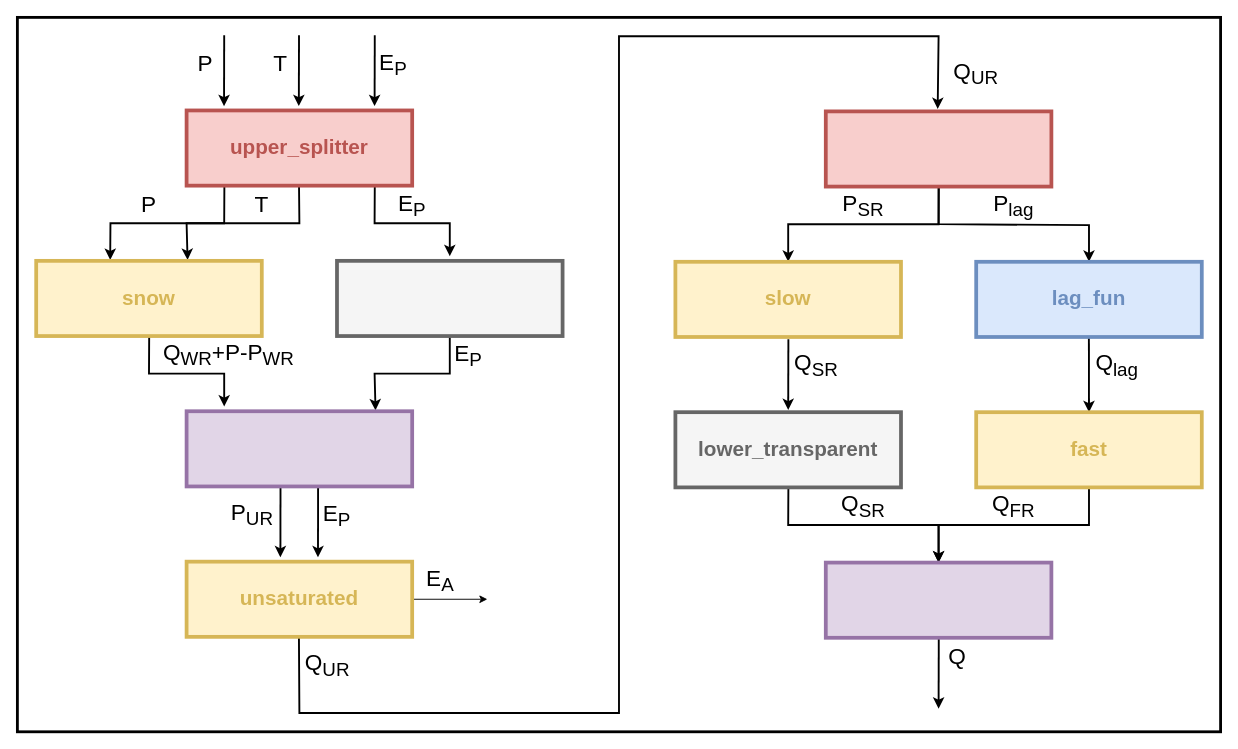
The diagram is 1238 pixels wide and 749 high, and some of its shapes have lost their labels. Here are the shapes that lost their labels. From the top down, the centre of each, then its label:
At (938,148): "lower_splitter".
At (449,297): "upper_transparent".
At (299,448): "upper_junction".
At (938,599): "lower_junction".
